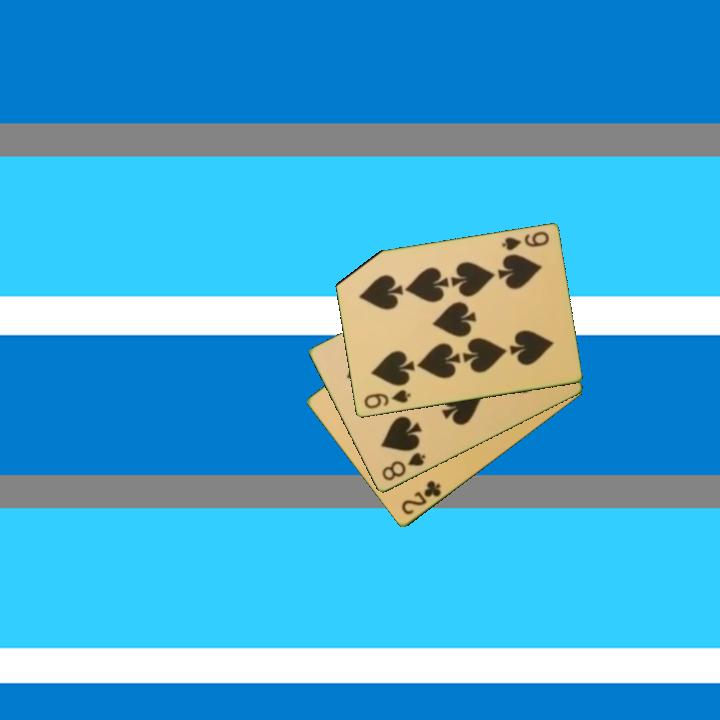2c: (398, 477, 444, 518)
8s: (378, 449, 428, 484)
9s: (498, 228, 552, 254), (360, 386, 413, 412)
